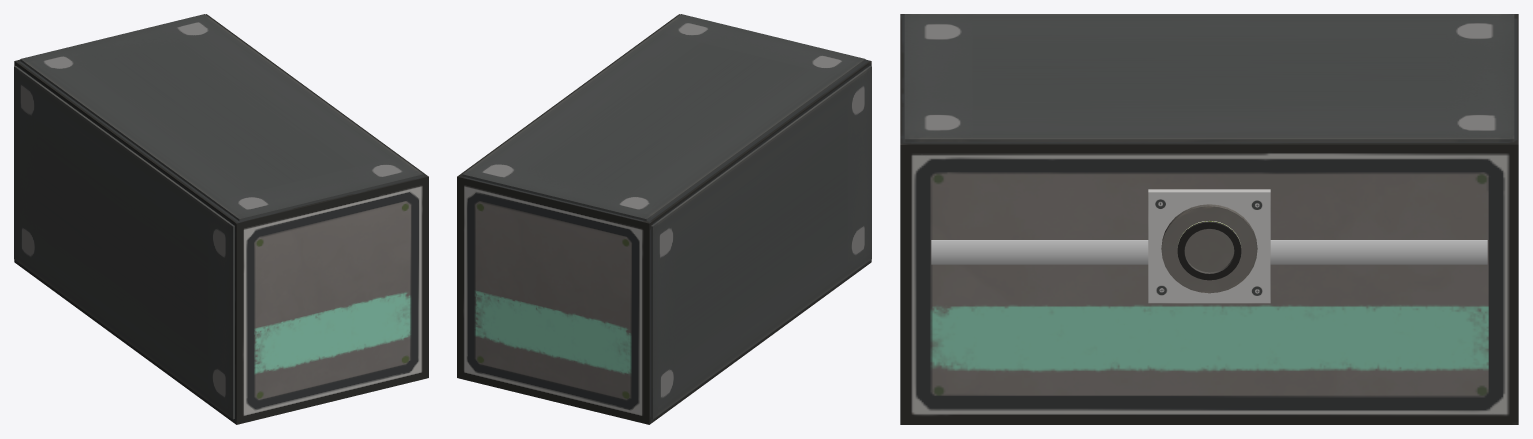
The model's file is Sci-Fi_Prefab_Var15.fbx.
3 views of the same model, side by side, from view 1: azimuth 30°, elevation 25°; view 2: azimuth 150°, elevation 25°; view 3: azimuth 270°, elevation 25° (orthographic). The views are drawn at different scales.
Visible parts, largest first — view 1: ProjectRG_Environment_Sci-Fi_TowerPanel_Var1_A.003, ProjectRG_Environment_Sci-Fi_ModBlock_Long.002, ProjectRG_Environment_Sci-Fi_TowerPanel_Var1_A.004; view 2: ProjectRG_Environment_Sci-Fi_TowerPanel_Var1_A.003, ProjectRG_Environment_Sci-Fi_ModBlock_Long.002, ProjectRG_Environment_Sci-Fi_TowerPanel_Var1_A.004; view 3: ProjectRG_Environment_Sci-Fi_ModBlock_Long.002, ProjectRG_Environment_Sci-Fi_TowerPanel_Var1_A.004, ProjectRG_Environment_Sci-Fi_BaseFenceFoundation.005, ProjectRG_Environment_Sci-Fi_TowerPanel_Var2_B.001, ProjectRG_Environment_Sci-Fi_TowerGlassBlock.028, ProjectRG_Environment_Sci-Fi_DonutViewingBlock.028.
Part boxes in pixels (bbox=[...]): ProjectRG_Environment_Sci-Fi_TowerPanel_Var1_A.003: bbox=[14, 66, 234, 419]; ProjectRG_Environment_Sci-Fi_ModBlock_Long.002: bbox=[14, 14, 428, 424]; ProjectRG_Environment_Sci-Fi_TowerPanel_Var1_A.004: bbox=[20, 14, 423, 221]; ProjectRG_Environment_Sci-Fi_TowerPanel_Var1_A.003: bbox=[651, 66, 871, 419]; ProjectRG_Environment_Sci-Fi_ModBlock_Long.002: bbox=[457, 14, 871, 424]; ProjectRG_Environment_Sci-Fi_TowerPanel_Var1_A.004: bbox=[462, 14, 865, 221]; ProjectRG_Environment_Sci-Fi_ModBlock_Long.002: bbox=[900, 14, 1518, 424]; ProjectRG_Environment_Sci-Fi_TowerPanel_Var1_A.004: bbox=[904, 14, 1514, 142]; ProjectRG_Environment_Sci-Fi_BaseFenceFoundation.005: bbox=[931, 240, 1487, 264]; ProjectRG_Environment_Sci-Fi_TowerPanel_Var2_B.001: bbox=[1148, 189, 1270, 303]; ProjectRG_Environment_Sci-Fi_TowerGlassBlock.028: bbox=[1161, 204, 1257, 293]; ProjectRG_Environment_Sci-Fi_DonutViewingBlock.028: bbox=[1177, 221, 1241, 280].
Size of what is drawn, in the model's own units: 122 by 116 by 230.
